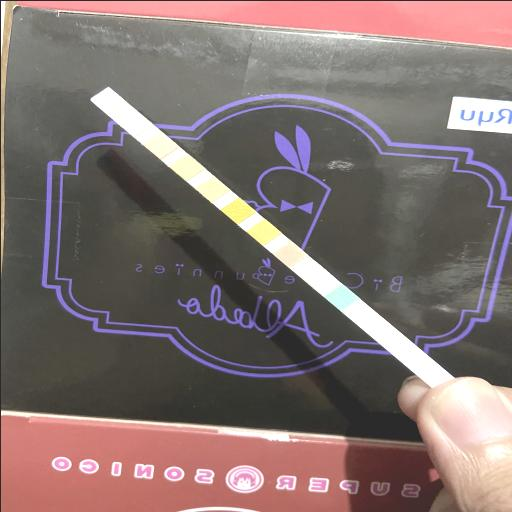Bilirubin: (303, 270, 325, 280)
Blood: (226, 205, 248, 215)
Glucose: (330, 292, 352, 302)
Ketone: (278, 248, 300, 258)
Leukocytes: (95, 94, 117, 104)
Nitrite: (122, 116, 144, 126)
Protein: (174, 161, 196, 171)
SpGravity: (251, 226, 273, 236)
Urobilinogen: (148, 140, 172, 150)
pH: (200, 183, 222, 193)
strip: (88, 86, 451, 386)
